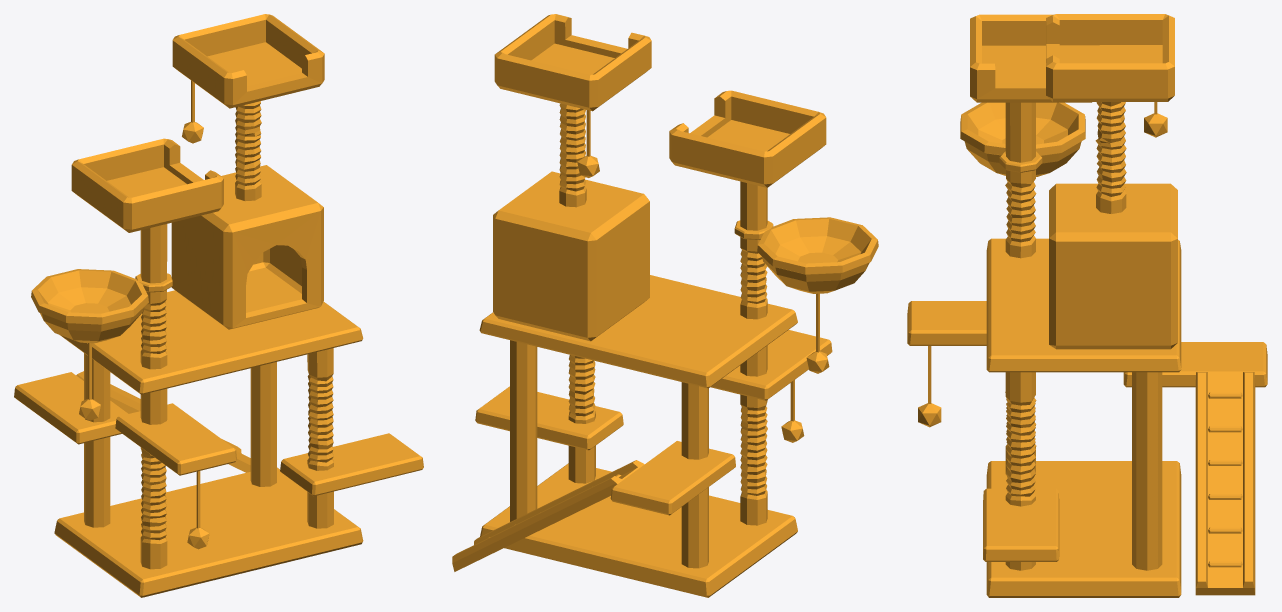
File: SM_Cat_Tree_A.fbx
3 renders of one model, left to right at view 1: azimuth 30°, elevation 25°; view 2: azimuth 150°, elevation 25°; view 3: azimuth 270°, elevation 25°, orthographic. The views are drawn at different scales.
Parts seen in each view (by area): view 1: SM_Cat_Tree_A_Base, SM_Cat_Tree_A_Ball_A, SM_Cat_Tree_A_Ball_B, SM_Cat_Tree_A_Ball_C; view 2: SM_Cat_Tree_A_Base, SM_Cat_Tree_A_Ball_B, SM_Cat_Tree_A_Ball_C, SM_Cat_Tree_A_Ball_A; view 3: SM_Cat_Tree_A_Base, SM_Cat_Tree_A_Ball_A, SM_Cat_Tree_A_Ball_C.
Boxes of the visible parts, <box> form: SM_Cat_Tree_A_Base: <box>14,14,423,597</box>; SM_Cat_Tree_A_Ball_A: <box>187,471,209,549</box>; SM_Cat_Tree_A_Ball_B: <box>79,343,100,420</box>; SM_Cat_Tree_A_Ball_C: <box>182,80,203,143</box>; SM_Cat_Tree_A_Base: <box>452,14,878,597</box>; SM_Cat_Tree_A_Ball_B: <box>806,293,829,373</box>; SM_Cat_Tree_A_Ball_C: <box>577,110,599,177</box>; SM_Cat_Tree_A_Ball_A: <box>781,380,804,442</box>; SM_Cat_Tree_A_Base: <box>907,14,1267,597</box>; SM_Cat_Tree_A_Ball_A: <box>918,346,941,427</box>; SM_Cat_Tree_A_Ball_C: <box>1144,102,1167,137</box>.
Size of the model in its own units: 1.36 by 1.67 by 1.03.
